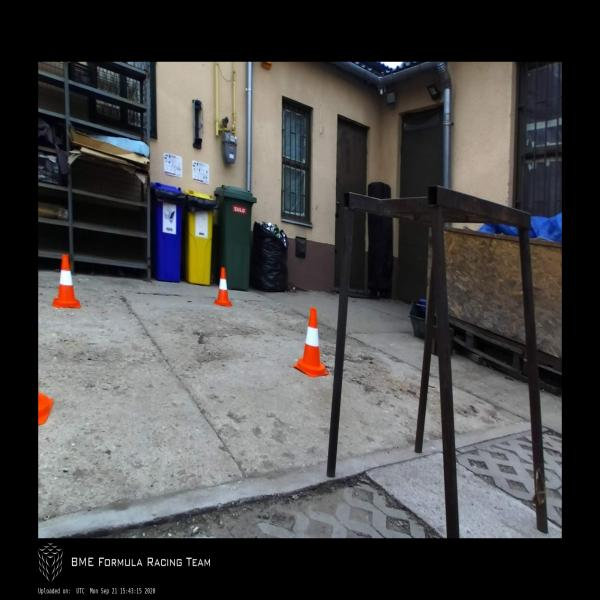orange_cone: (293, 306, 329, 377), (52, 254, 81, 309), (213, 267, 232, 307)
